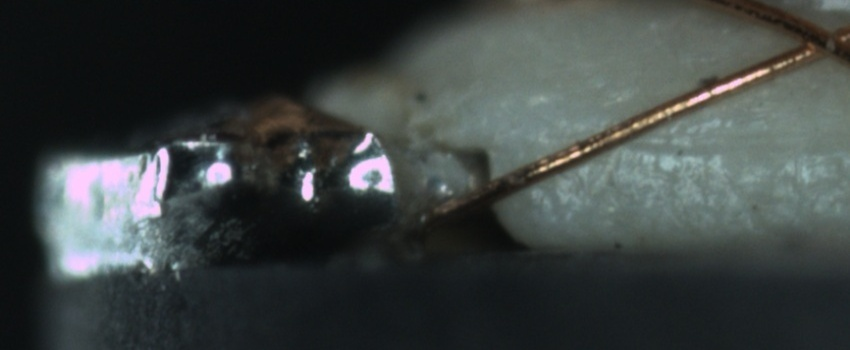CL: (775, 13, 847, 71)
DL: (575, 108, 843, 174)
